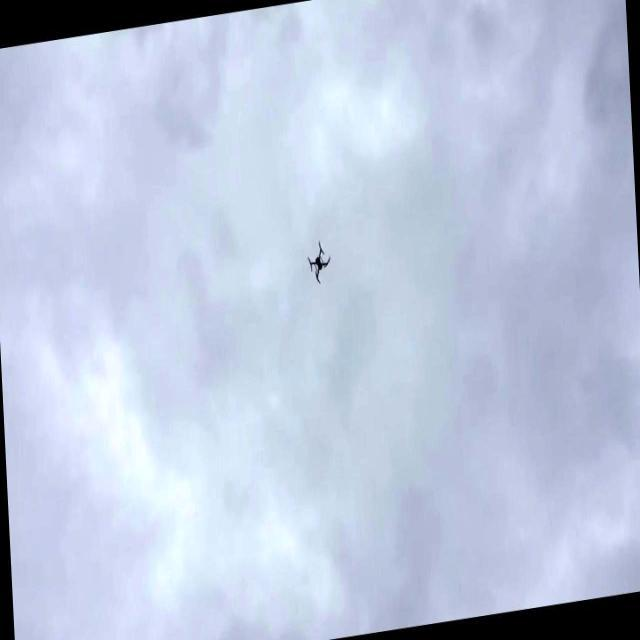drone: (304, 235, 334, 289)
